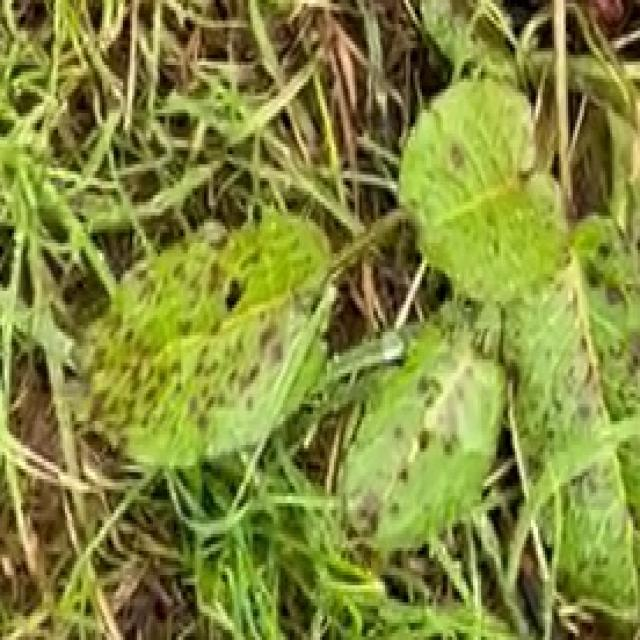organic waste: (104, 51, 640, 610)
